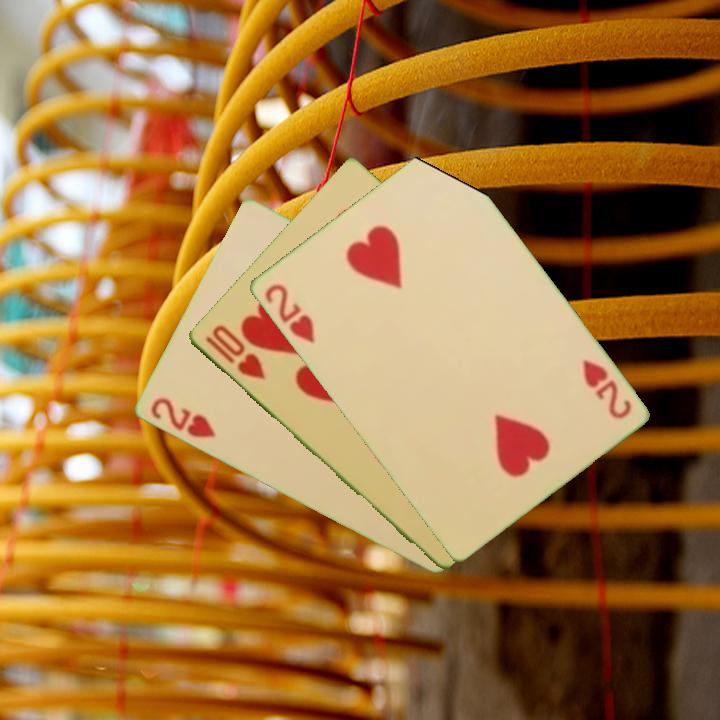10h: (201, 321, 268, 383)
2h: (260, 280, 317, 346), (578, 355, 634, 422), (146, 394, 218, 442)
